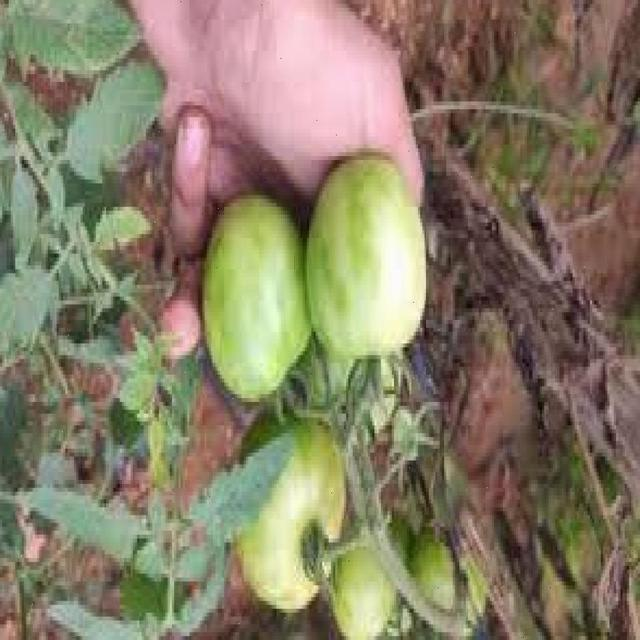Spotted wilt Virus Fruit: (75, 139, 245, 195)
